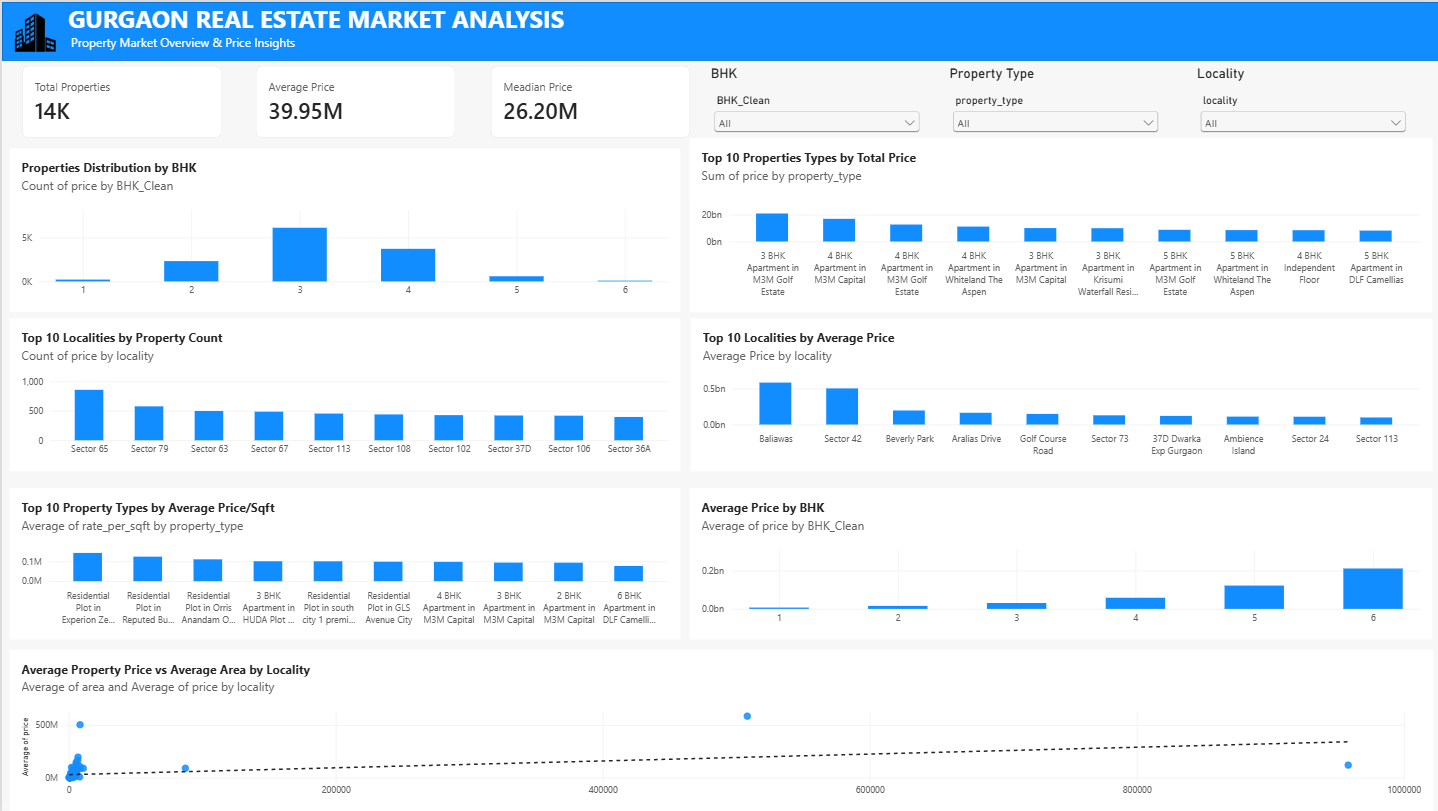

This screenshot's page, from the dashboard's own definition file:
{"tool":"powerbi","page":{"name":"Page 1","canvas":[1920,1080],"ordinal":0},"visuals":[{"type":"cardVisual","fields":{"Data":["gurgaon_real_estate_cleaned.Total Properties"]},"box":[25.9,85.2,266.7,96.3],"z":0},{"type":"cardVisual","fields":{"Data":["gurgaon_real_estate_cleaned.Average Price"]},"box":[338.9,85.2,266.7,96.3],"z":1000},{"type":"cardVisual","fields":{"Data":["gurgaon_real_estate_cleaned.Meadian Price"]},"box":[651.9,85.2,266.7,96.3],"z":2000},{"type":"clusteredColumnChart","title":"Properties Distribution by BHK","fields":{"Category":["gurgaon_real_estate_cleaned.BHK_Clean"],"Y":["CountNonNull(gurgaon_real_estate_cleaned.price)"]},"box":[9.3,194.4,894.4,218.5],"z":3000},{"type":"clusteredColumnChart","title":"Top 10 Properties Types by Total Price","fields":{"Category":["gurgaon_real_estate_cleaned.property_type"],"Y":["Sum(gurgaon_real_estate_cleaned.price)"]},"box":[916.7,181.7,990,231.7],"z":4000},{"type":"clusteredColumnChart","title":"Average Price by BHK","fields":{"Category":["gurgaon_real_estate_cleaned.BHK_Clean"],"Y":["Avg(gurgaon_real_estate_cleaned.price)"]},"box":[916.7,648.1,990.7,201.9],"z":5000},{"type":"clusteredColumnChart","title":"Top 10 Property Types by Average Price/Sqft","fields":{"Category":["gurgaon_real_estate_cleaned.property_type"],"Y":["Avg(gurgaon_real_estate_cleaned.rate_per_sqft)"]},"box":[9.3,648.1,894.4,201.9],"z":6000},{"type":"clusteredColumnChart","title":"Top 10 Localities by Property Count","fields":{"Category":["gurgaon_real_estate_cleaned.locality"],"Y":["CountNonNull(gurgaon_real_estate_cleaned.price)"]},"box":[9.3,422.2,894.4,203.7],"z":7000},{"type":"clusteredColumnChart","title":"Top 10 Localities by Average Price","fields":{"Category":["gurgaon_real_estate_cleaned.locality"],"Y":["gurgaon_real_estate_cleaned.Average Price"]},"box":[918.5,422.2,988.9,203.7],"z":8000},{"type":"scatterChart","title":"Average Property Price vs Average Area by Locality","fields":{"Category":["gurgaon_real_estate_cleaned.locality"],"X":["Avg(gurgaon_real_estate_cleaned.area)"],"Y":["Avg(gurgaon_real_estate_cleaned.price)"]},"box":[9.3,863,1898.1,216.7],"z":9000},{"type":"slicer","title":"BHK","fields":{"Values":["gurgaon_real_estate_cleaned.BHK_Clean"]},"box":[944.4,85.2,283.3,96.3],"z":10000},{"type":"slicer","title":"Property Type","fields":{"Values":["gurgaon_real_estate_cleaned.property_type"]},"box":[1263,85.2,283.3,96.3],"z":11000},{"type":"slicer","title":"Locality","fields":{"Values":["gurgaon_real_estate_cleaned.locality"]},"box":[1592.6,85.2,283.3,96.3],"z":12000},{"type":"shape","box":[0,0,1919.5,78.7],"z":13000},{"type":"textbox","box":[0,0,944.7,78.7],"z":14000},{"type":"image","box":[10,10,70,60],"z":15000}]}

Visuals, with their boxes in screenshot pixels (x1, y1, x2, y2), scaled from the page's 1920x1080 canvas onto the 1438x811 screenshot:
cardVisual - gurgaon_real_estate_cleaned.Total Properties: 19 64 219 136
cardVisual - gurgaon_real_estate_cleaned.Average Price: 254 64 454 136
cardVisual - gurgaon_real_estate_cleaned.Meadian Price: 488 64 688 136
"Properties Distribution by BHK" clusteredColumnChart: 7 146 677 310
"Top 10 Properties Types by Total Price" clusteredColumnChart: 687 136 1428 310
"Average Price by BHK" clusteredColumnChart: 687 487 1429 638
"Top 10 Property Types by Average Price/Sqft" clusteredColumnChart: 7 487 677 638
"Top 10 Localities by Property Count" clusteredColumnChart: 7 317 677 470
"Top 10 Localities by Average Price" clusteredColumnChart: 688 317 1429 470
"Average Property Price vs Average Area by Locality" scatterChart: 7 648 1429 810
"BHK" slicer: 707 64 919 136
"Property Type" slicer: 946 64 1158 136
"Locality" slicer: 1193 64 1405 136
shape: 0 0 1437 59
textbox: 0 0 708 59
image: 7 8 60 53
